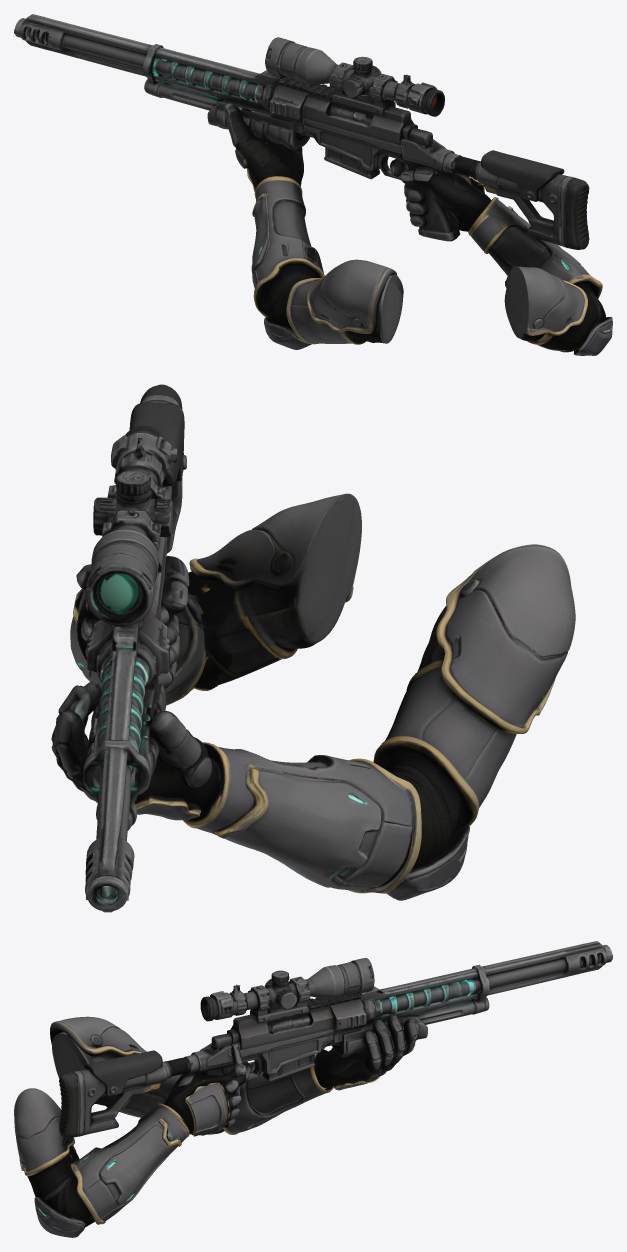
File: sniper_vm.glb
3 views of the same model, one above another, from view 1: azimuth 30°, elevation 25°; view 2: azimuth 150°, elevation 25°; view 3: azimuth 270°, elevation 25° (orthographic). The views are drawn at different scales.
Parts seen in each view (by area): view 1: tripo_node_809ca8f0-5c0c-4ac4-9112-d4d7c659bb75; view 2: tripo_node_809ca8f0-5c0c-4ac4-9112-d4d7c659bb75; view 3: tripo_node_809ca8f0-5c0c-4ac4-9112-d4d7c659bb75.
Part boxes in pixels (bbox=[...]): tripo_node_809ca8f0-5c0c-4ac4-9112-d4d7c659bb75: bbox=[14, 14, 612, 355]; tripo_node_809ca8f0-5c0c-4ac4-9112-d4d7c659bb75: bbox=[51, 384, 575, 912]; tripo_node_809ca8f0-5c0c-4ac4-9112-d4d7c659bb75: bbox=[14, 941, 612, 1237].
Size of the model in its own units: 0.5737 by 0.4156 by 1.06.
1 material, 1 textured.
